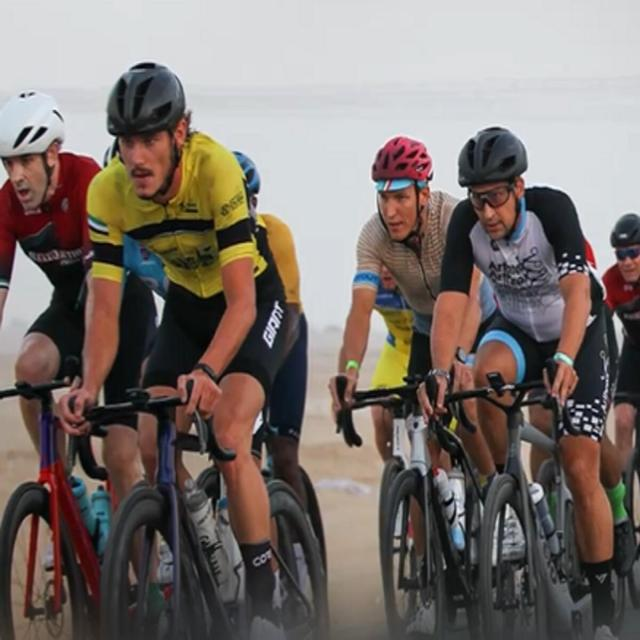bicycle: (59, 63, 329, 639), (420, 126, 616, 639), (330, 137, 482, 638)
